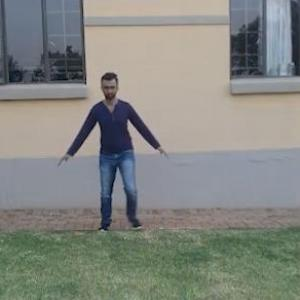land: (48, 72, 174, 237)
